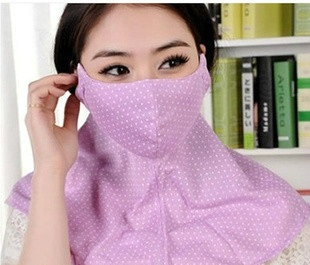face_mask: (82, 2, 204, 147)
